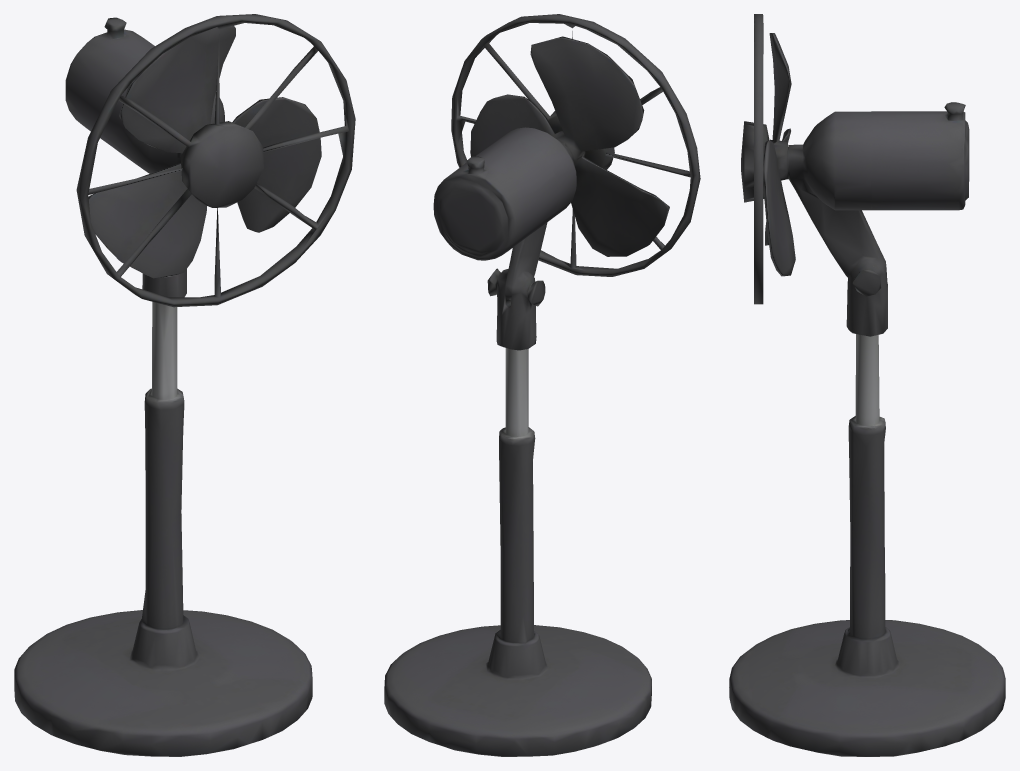
The model's file is ENV_FAN_v001_RAW.glb.
3 renders of one model, left to right at view 1: azimuth 30°, elevation 25°; view 2: azimuth 150°, elevation 25°; view 3: azimuth 270°, elevation 25°, orthographic. The views are drawn at different scales.
Parts seen in each view (by area): view 1: tripo_node_ac3410e2-9cef-487a-8c4b-3a271887f988; view 2: tripo_node_ac3410e2-9cef-487a-8c4b-3a271887f988; view 3: tripo_node_ac3410e2-9cef-487a-8c4b-3a271887f988.
Part boxes in pixels (<box>): tripo_node_ac3410e2-9cef-487a-8c4b-3a271887f988: <box>14,14,355,756</box>; tripo_node_ac3410e2-9cef-487a-8c4b-3a271887f988: <box>384,14,700,756</box>; tripo_node_ac3410e2-9cef-487a-8c4b-3a271887f988: <box>729,14,1005,756</box>.
Bounding box in the file's own units: 0.3882 × 0.98 × 0.365.
Materials: 1 (1 with a texture image).
